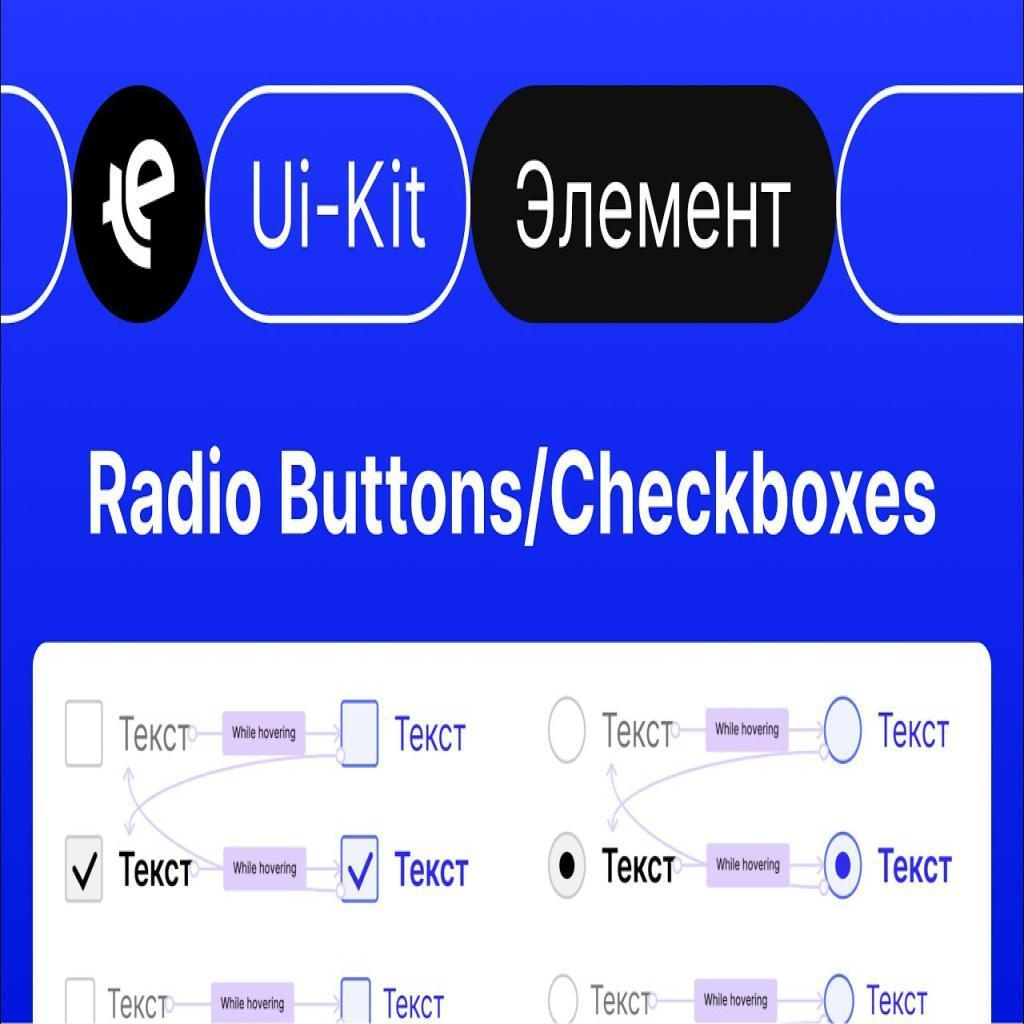checkbox: (66, 835, 105, 903), (66, 701, 105, 766), (343, 701, 379, 769), (343, 836, 379, 902), (67, 978, 98, 1023), (343, 979, 372, 1024)
radio: (544, 694, 592, 767), (546, 832, 592, 905), (822, 832, 867, 903), (824, 691, 867, 763), (821, 972, 863, 1024), (545, 971, 584, 1024)
